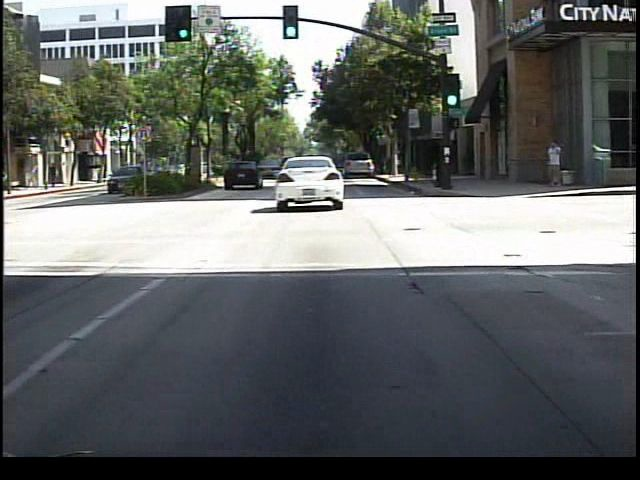person: (542, 138, 567, 193), (47, 160, 62, 194)
